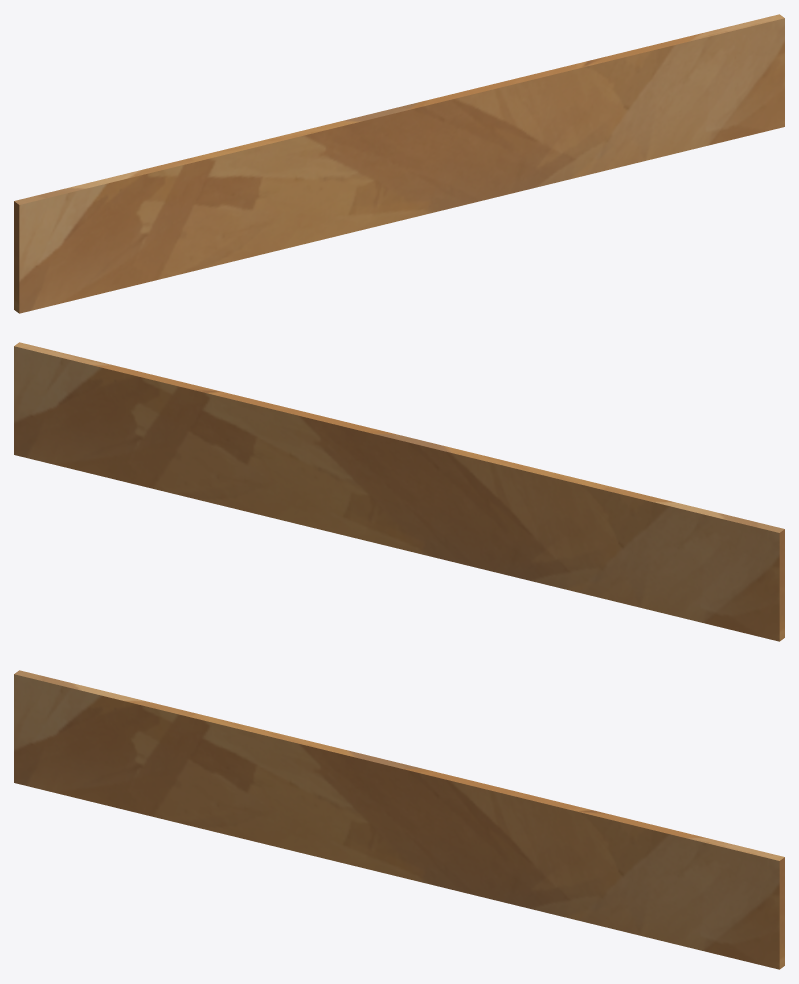
The model's file is BaseboardCorner.fbx.
The picture shows the model from 3 angles, top to bottom: view 1: azimuth 30°, elevation 25°; view 2: azimuth 150°, elevation 25°; view 3: azimuth 330°, elevation 25°; orthographic projection.
Parts seen in each view (by area): view 1: mdl_poi_BaseboardCorner; view 2: mdl_poi_BaseboardCorner; view 3: mdl_poi_BaseboardCorner.
Boxes of the visible parts, x1,y1,x2,y2 form: mdl_poi_BaseboardCorner: (14,14,784,313); mdl_poi_BaseboardCorner: (14,342,784,641); mdl_poi_BaseboardCorner: (14,670,784,969).
Size of the model in its own units: 0.737 by 0.1 by 0.009.
